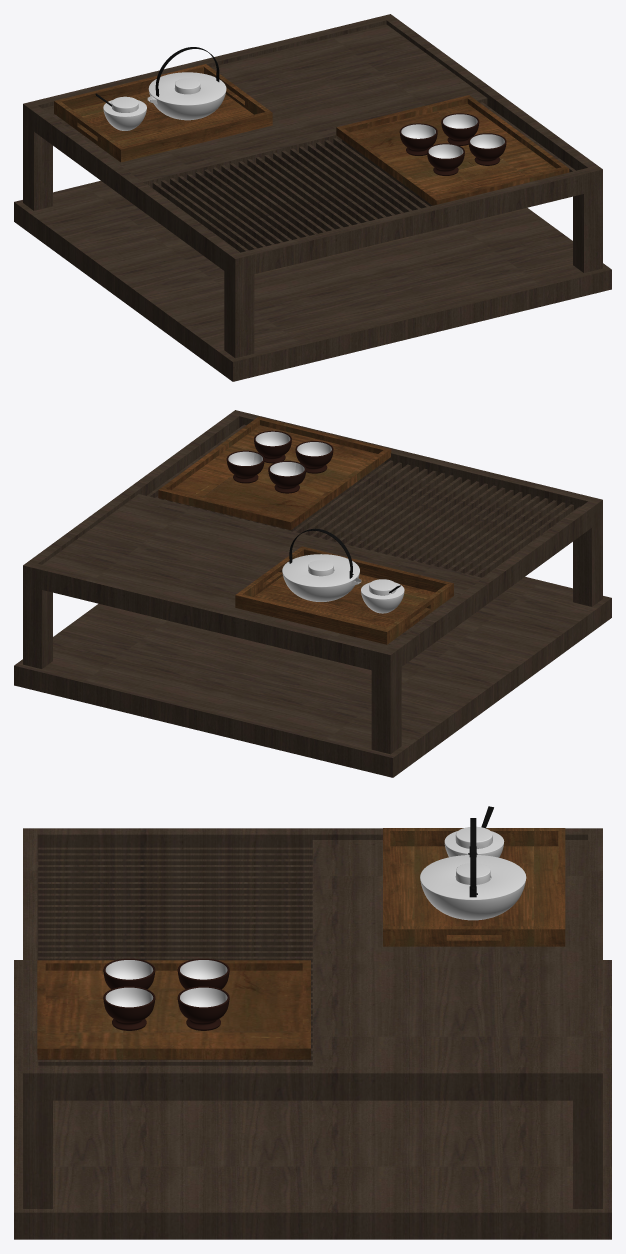
File: chuantongzhoshichaji02.FBX
3 renders of one model, top to bottom at view 1: azimuth 30°, elevation 25°; view 2: azimuth 150°, elevation 25°; view 3: azimuth 270°, elevation 25°, orthographic. The views are drawn at different scales.
Parts seen in each view (by area): view 1: Box04, Box48, Rectangle6, arch40_019, arch40_020, Line16.Li0, Line16.Li1, Line16, Line16.Lin; view 2: Box04, Box48, Rectangle6, arch40_019, arch40_020, Line16, Line16.Lin, Line16.Li1, Line16.Li0; view 3: Box04, Box48, Rectangle6, arch40_019, Line16.Li0, Line16, Shape12, Shape12.S1, Shape12.Sh, Shape12.S0, arch40_020, Line16.Li1 (+2 smaller).
Boxes of the visible parts, x1,y1,x2,y2 form: Box04: (14, 14, 611, 381); Box48: (336, 95, 569, 205); Rectangle6: (54, 64, 272, 162); arch40_019: (147, 72, 226, 120); arch40_020: (103, 100, 146, 130); Line16.Li0: (468, 133, 506, 165); Line16.Li1: (427, 143, 464, 175); Line16: (441, 113, 479, 145); Line16.Lin: (399, 123, 437, 155); Box04: (14, 410, 611, 777); Box48: (158, 416, 391, 530); Rectangle6: (235, 546, 453, 644); arch40_019: (282, 554, 361, 601); arch40_020: (361, 582, 404, 613); Line16: (226, 450, 264, 483); Line16.Lin: (268, 461, 306, 493); Line16.Li1: (295, 441, 333, 473); Line16.Li0: (254, 430, 291, 463); Box04: (14, 828, 611, 1239); Box48: (37, 960, 310, 1059); Rectangle6: (383, 828, 565, 946); arch40_019: (420, 852, 526, 920); Line16.Li0: (103, 986, 155, 1030); Line16: (177, 986, 229, 1030); Shape12: (180, 987, 227, 1007); Shape12.S1: (105, 987, 153, 1007); Shape12.Sh: (180, 960, 227, 979); Shape12.S0: (105, 960, 153, 979); arch40_020: (444, 831, 504, 857); Line16.Li1: (103, 958, 155, 989).
Size of the model in its own units: 971 by 442 by 971.
6 materials, 2 textured.
